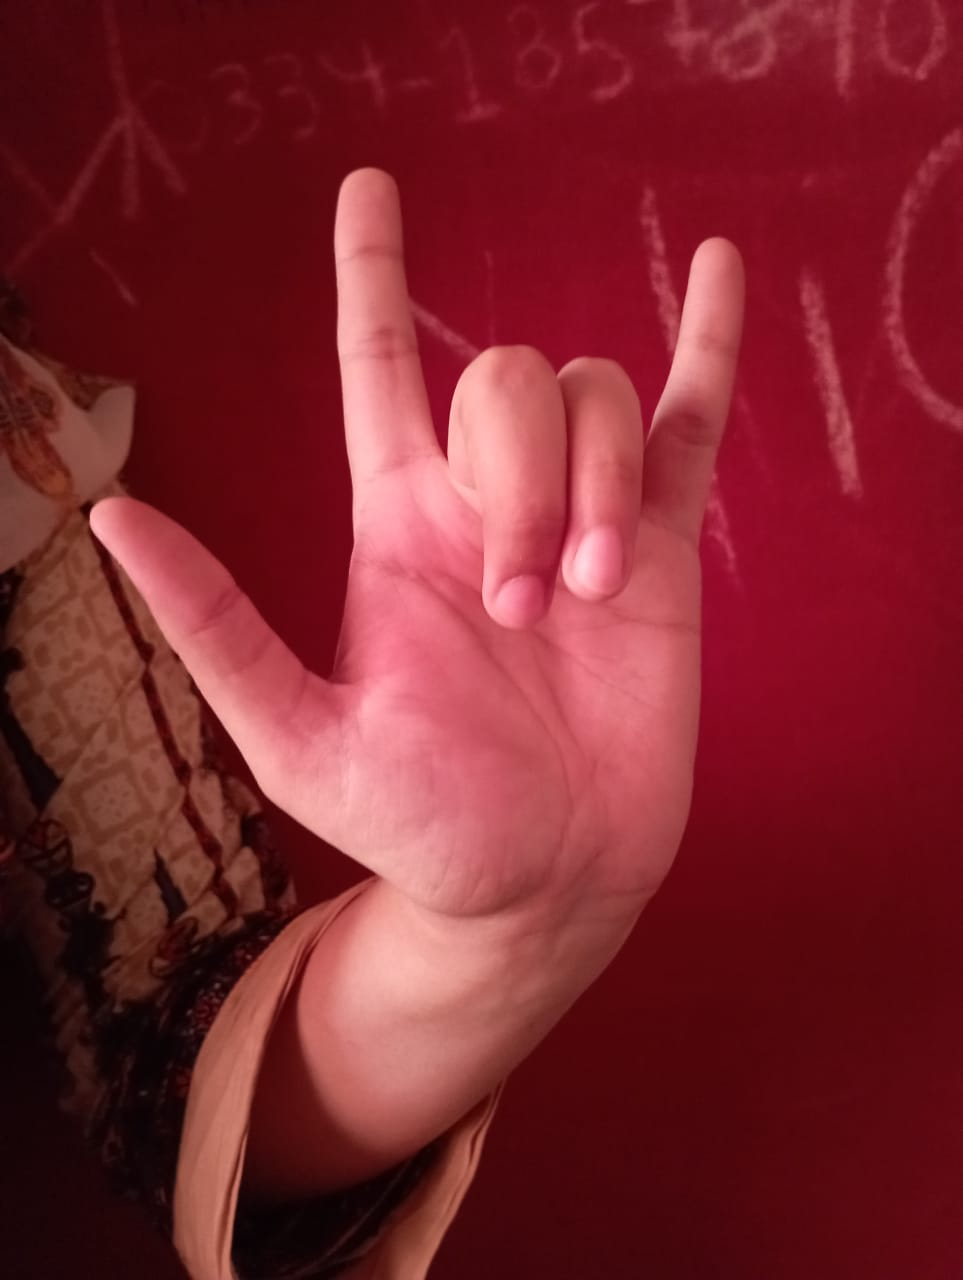Loved It: (82, 153, 758, 951)
